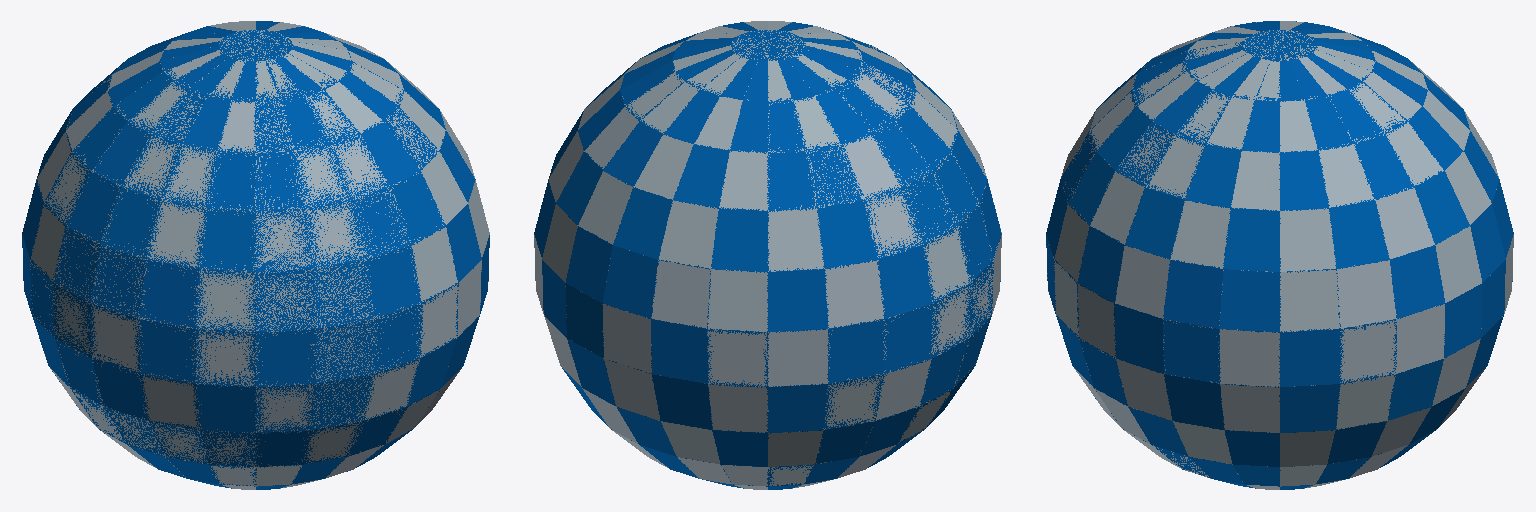
Rendered from Ball_blue_01.obj.
3 views of the same model, side by side, from view 1: azimuth 30°, elevation 25°; view 2: azimuth 150°, elevation 25°; view 3: azimuth 270°, elevation 25° (orthographic).
Parts seen in each view (by area): view 1: Mesh1 Ball_blue Model; view 2: Mesh1 Ball_blue Model; view 3: Mesh1 Ball_blue Model.
Boxes of the visible parts, x1=… form: Mesh1 Ball_blue Model: x1=22, y1=21, x2=489, y2=489; Mesh1 Ball_blue Model: x1=534, y1=21, x2=1001, y2=489; Mesh1 Ball_blue Model: x1=1046, y1=21, x2=1513, y2=489.
Size of the model in its own units: 0.2099 by 0.2096 by 0.2099.